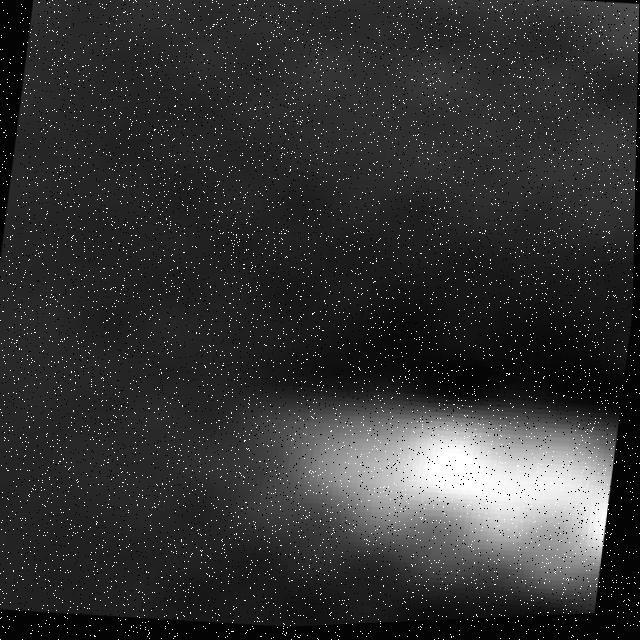person: (226, 346, 627, 633), (411, 1, 640, 74)
